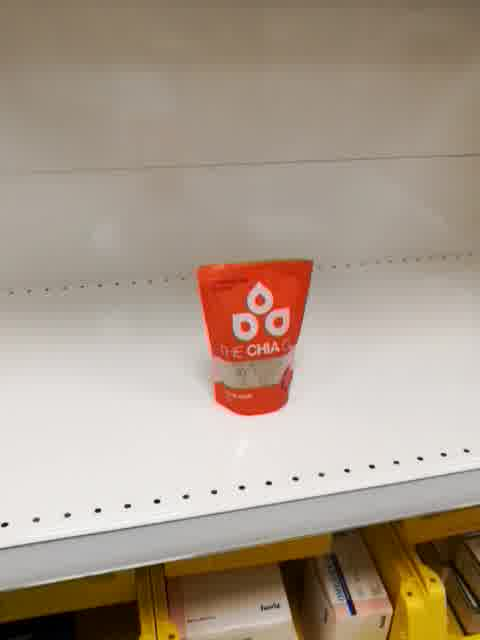whitechia: (193, 258, 314, 417)
